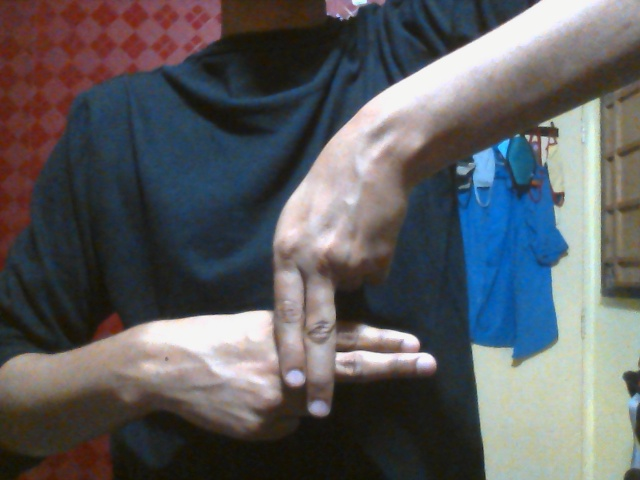F: (156, 154, 439, 444)
